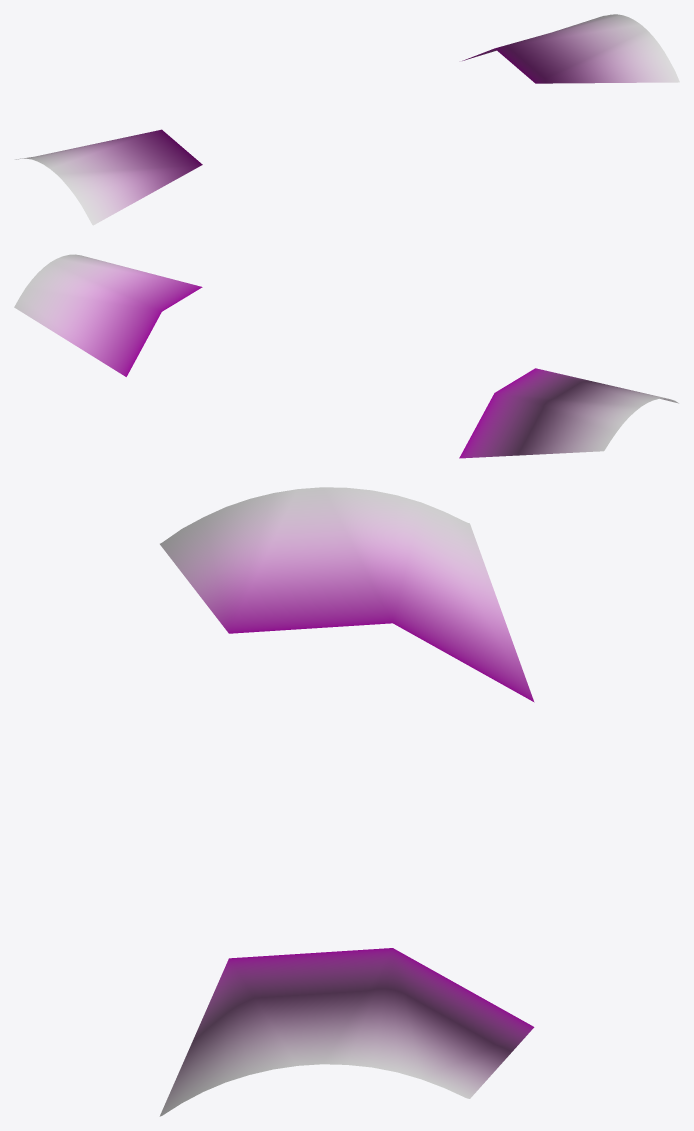
File: Car_MercedesBenz_AMGGT_2015_FendersChassisR_SetGTR.fbx
3 renders of one model, top to bottom at view 1: azimuth 30°, elevation 25°; view 2: azimuth 150°, elevation 25°; view 3: azimuth 270°, elevation 25°, orthographic. The views are drawn at different scales.
Parts seen in each view (by area): view 1: FendersChassisR 6; view 2: FendersChassisR 6; view 3: FendersChassisR 6.
Boxes of the visible parts, left/top/right/bottom form: FendersChassisR 6: left=15, top=14, right=679, bottom=225; FendersChassisR 6: left=14, top=254, right=678, bottom=458; FendersChassisR 6: left=159, top=487, right=534, bottom=1116.
Size of the model in its own units: 1.98 by 0.1424 by 0.5434.
